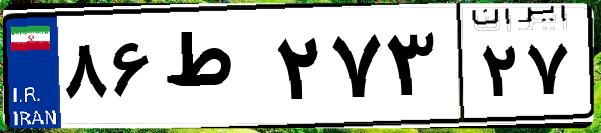2: (270, 28, 330, 110), (475, 38, 525, 113)
3: (385, 28, 445, 110)
6: (110, 28, 158, 98)
7: (330, 28, 385, 110), (525, 38, 570, 115)
8: (57, 26, 110, 100)
ط: (158, 20, 270, 120)
